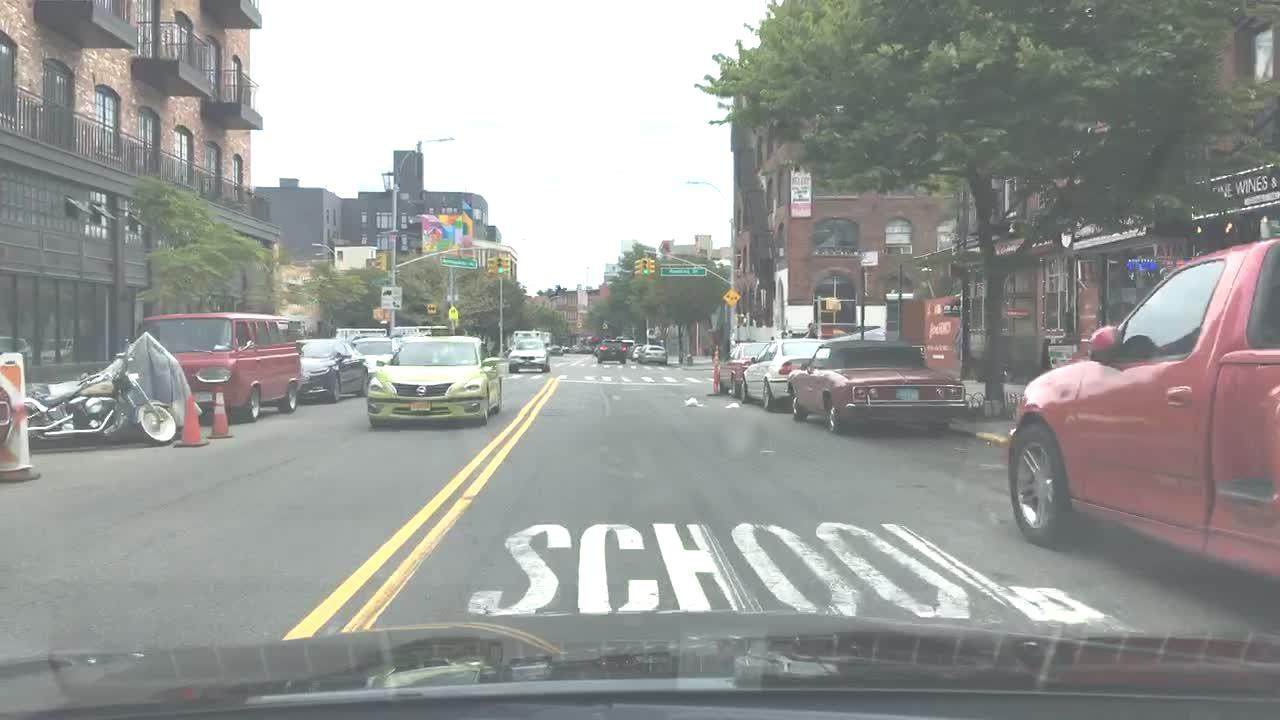Nissan: (416, 385, 434, 401)
